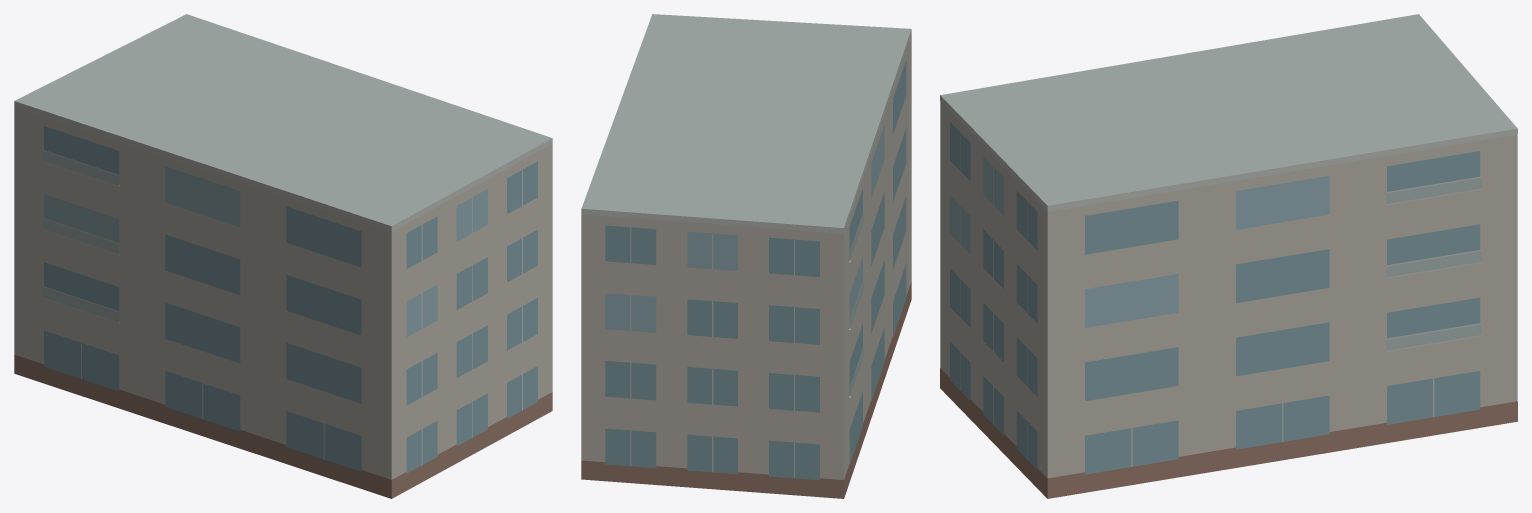
Rendered from survey-upis-32646692.glb.
3 renders of one model, left to right at view 1: azimuth 30°, elevation 25°; view 2: azimuth 150°, elevation 25°; view 3: azimuth 270°, elevation 25°, orthographic. The views are drawn at different scales.
Visible parts, largest first — view 1: survey-upis-32646692.tmp; view 2: survey-upis-32646692.tmp; view 3: survey-upis-32646692.tmp.
Part boxes in pixels (<box>): survey-upis-32646692.tmp: <box>14,14,552,498</box>; survey-upis-32646692.tmp: <box>581,14,911,498</box>; survey-upis-32646692.tmp: <box>940,14,1517,498</box>.
Size of the model in its own units: 17.01 by 12.11 by 21.64.
